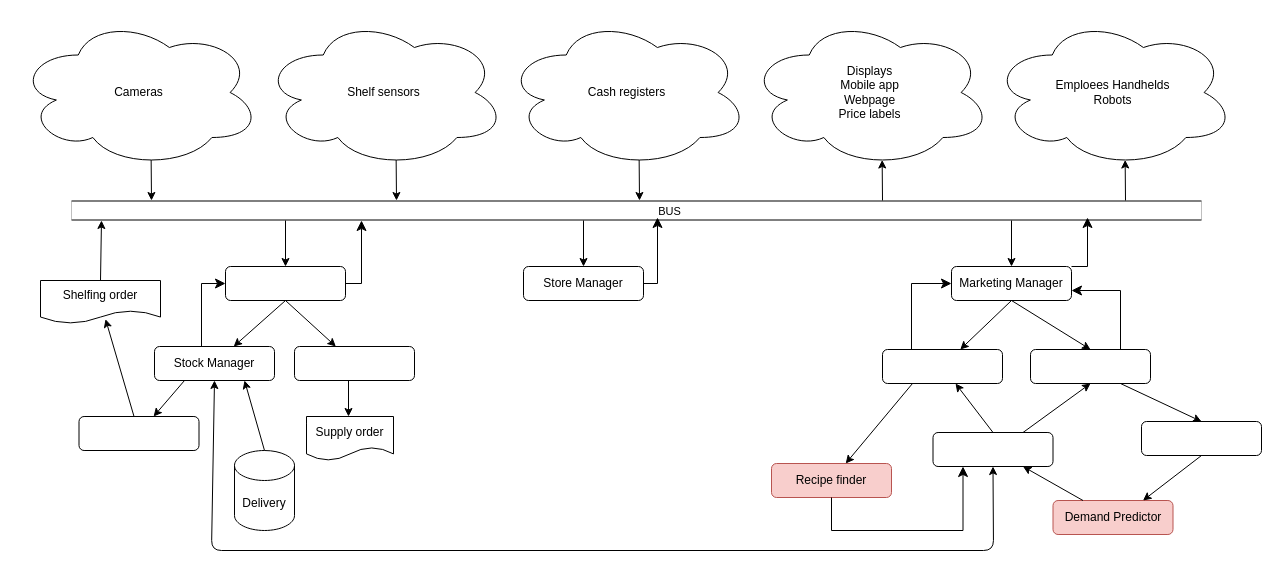
This 1279x577 diagram has some shape labels left out. The box of each missing label's shape, as (x1, y1, x2, y2) in pixels:
Dispatcher: (78, 416, 199, 450)
Merchant: (294, 346, 414, 380)
Recipe Advertiser: (882, 348, 1002, 384)
Stock Checker: (932, 432, 1053, 466)
Supply Adviser: (1030, 348, 1150, 384)
Supply Coordinator: (224, 266, 346, 300)
Weather Checker: (1140, 420, 1262, 456)
